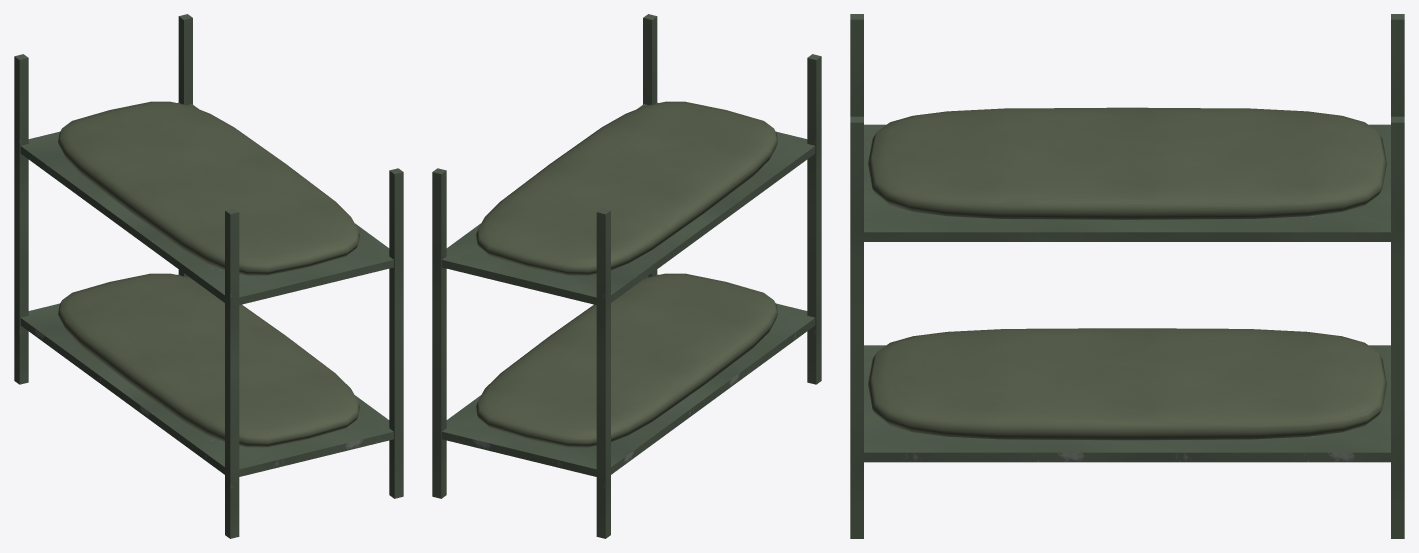
The model's file is bunk_bed.glb.
3 views of the same model, side by side, from view 1: azimuth 30°, elevation 25°; view 2: azimuth 150°, elevation 25°; view 3: azimuth 270°, elevation 25° (orthographic). The views are drawn at different scales.
Visible parts, largest first — view 1: bunk_bed; view 2: bunk_bed; view 3: bunk_bed.
Part boxes in pixels (bbox=[...]): bunk_bed: bbox=[14, 14, 403, 538]; bunk_bed: bbox=[432, 14, 821, 538]; bunk_bed: bbox=[850, 14, 1404, 538].
Size of the model in its own units: 0.95 by 1.7 by 2.05.
Materials: 2 (2 with a texture image).
